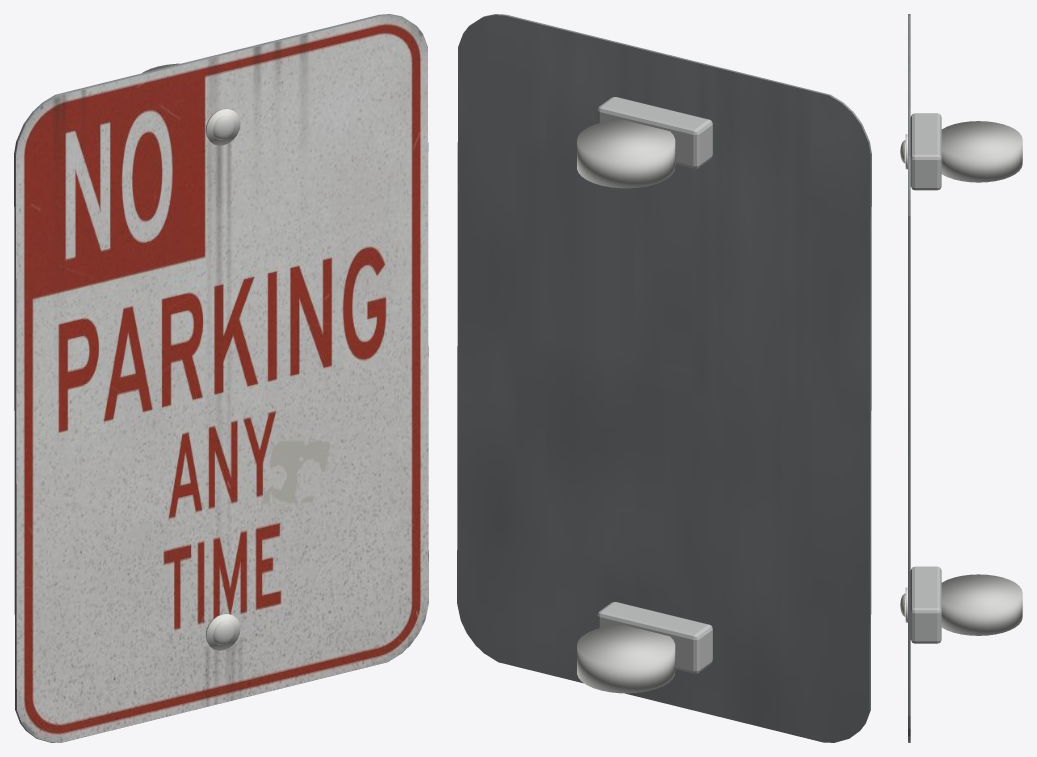
File: noParking-v1.glb
The picture shows the model from 3 angles, left to right: view 1: azimuth 30°, elevation 25°; view 2: azimuth 150°, elevation 25°; view 3: azimuth 270°, elevation 25°; orthographic projection. The views are drawn at different scales.
Parts seen in each view (by area): view 1: noParking-v1; view 2: noParking-v1; view 3: noParking-v1.
Boxes of the visible parts, bbox=[...] form: noParking-v1: bbox=[14, 14, 428, 742]; noParking-v1: bbox=[457, 14, 871, 742]; noParking-v1: bbox=[900, 14, 1022, 742].
Bounding box in the file's own units: 0.3048 × 0.4573 × 0.0871.
Materials: 1 (1 with a texture image).
